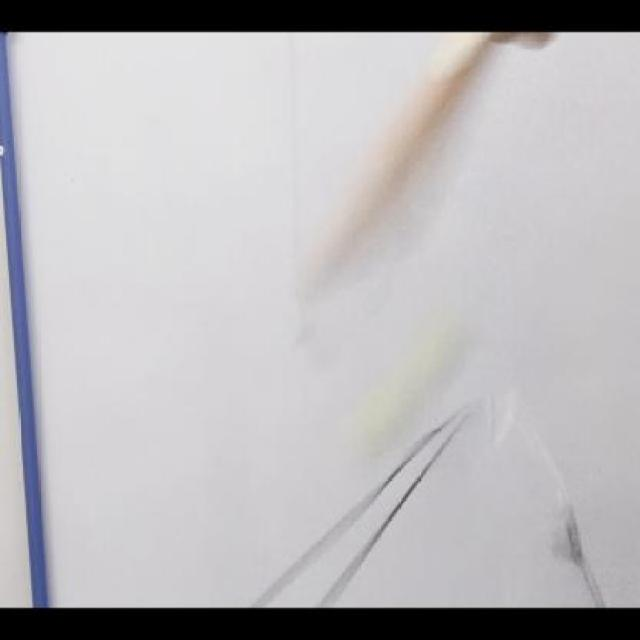baseball: (338, 328, 472, 463)
